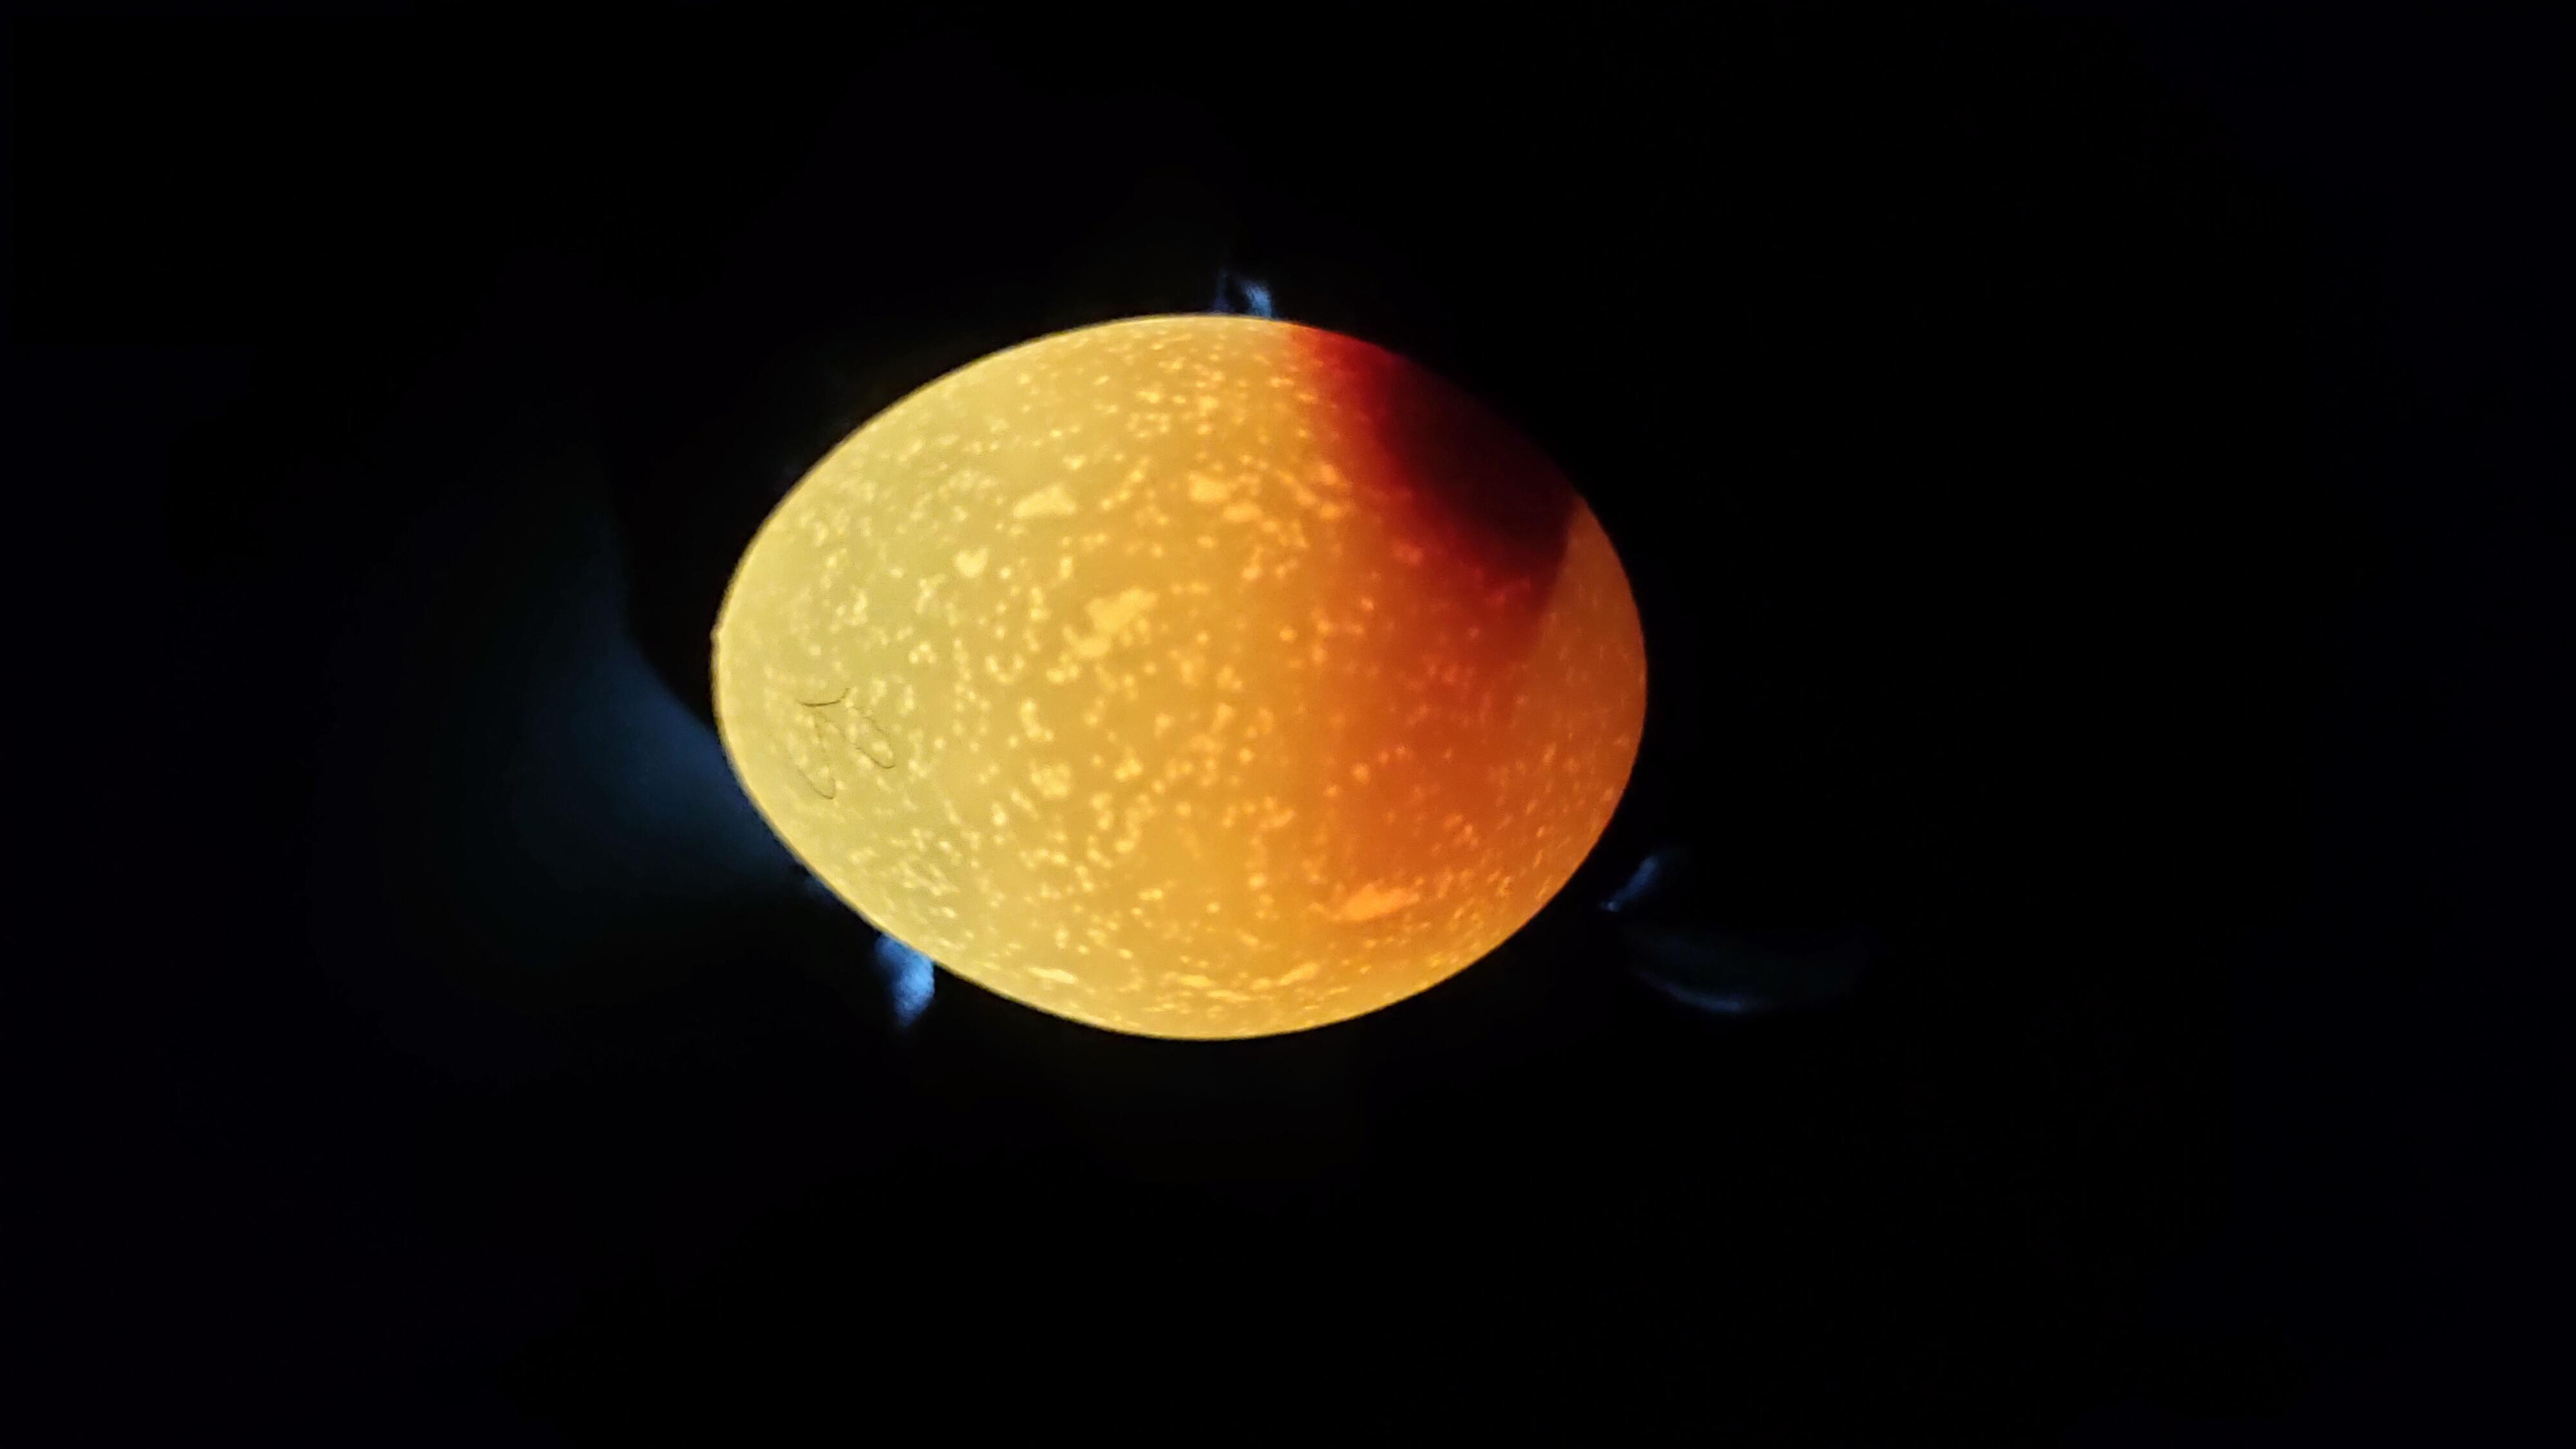AA - Premium: (686, 373, 2118, 964)
